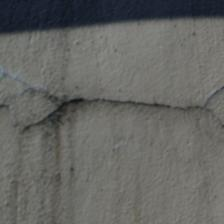Crack: (0, 77, 92, 147), (28, 47, 106, 65), (113, 58, 164, 78)
